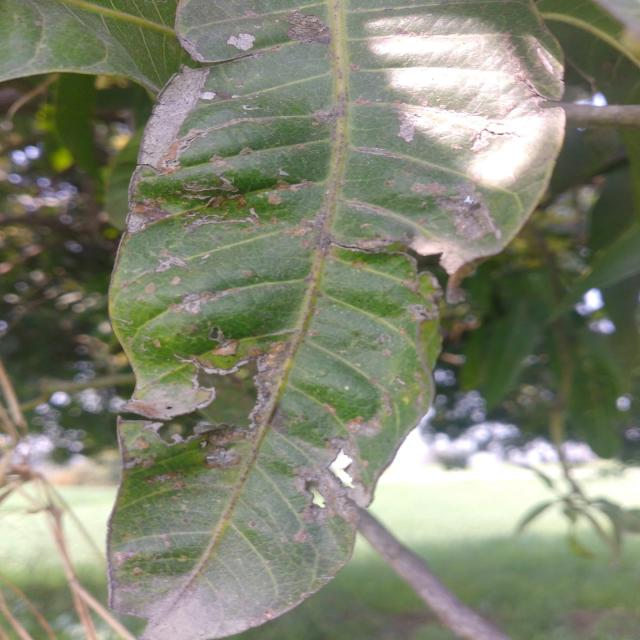Powdery Mildew: (156, 78, 189, 128), (285, 12, 330, 43), (176, 32, 207, 65), (151, 250, 188, 272), (143, 124, 167, 157), (398, 113, 418, 143), (226, 31, 255, 51)
